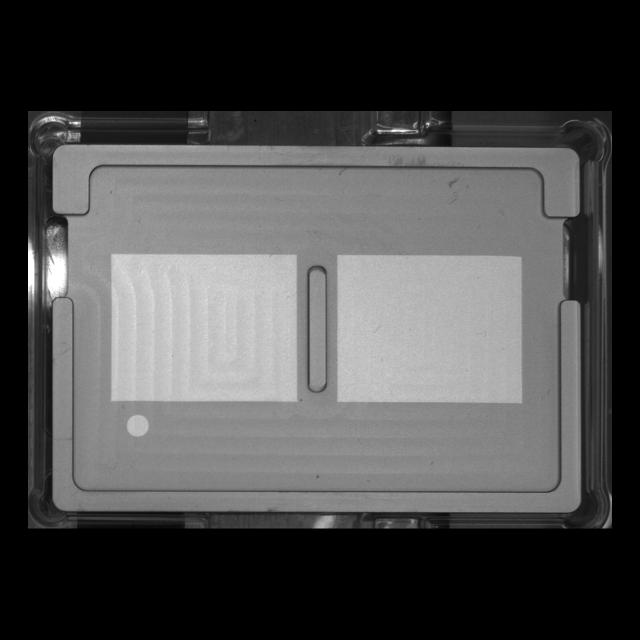door: (45, 138, 588, 228)
point: (120, 408, 156, 443)
